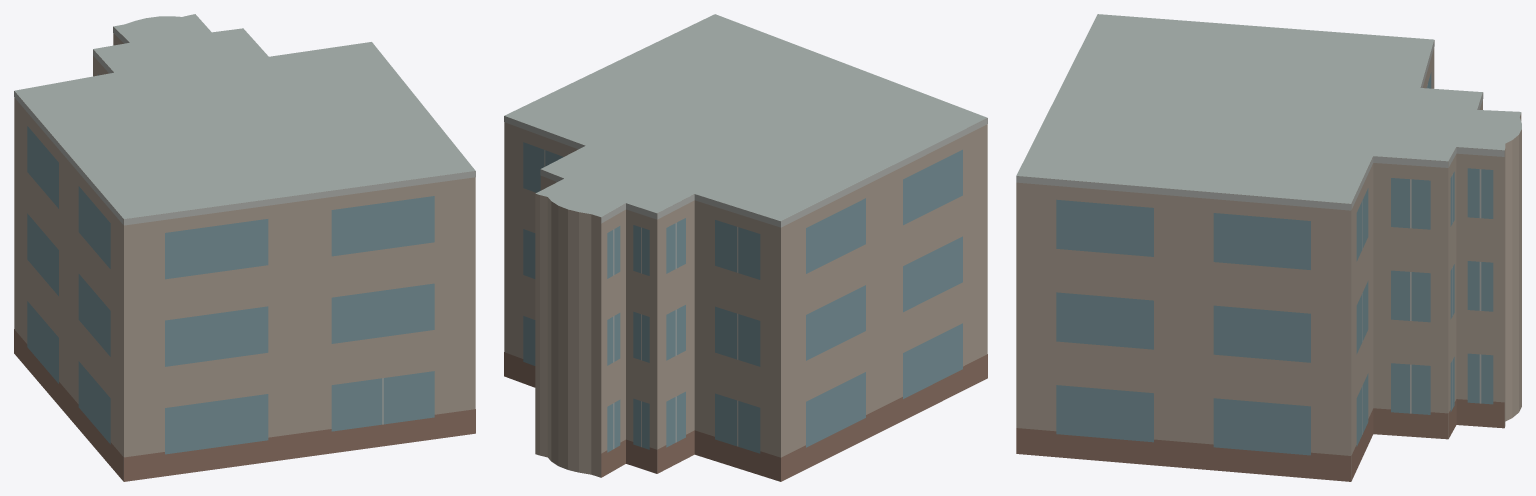
The model's file is survey-upis-32881840.glb.
3 renders of one model, left to right at view 1: azimuth 30°, elevation 25°; view 2: azimuth 150°, elevation 25°; view 3: azimuth 270°, elevation 25°, orthographic. The views are drawn at different scales.
Visible parts, largest first — view 1: survey-upis-32881840.tmp; view 2: survey-upis-32881840.tmp; view 3: survey-upis-32881840.tmp.
Part boxes in pixels (x1,y1,x2,y2): survey-upis-32881840.tmp: (14, 14, 475, 481); survey-upis-32881840.tmp: (504, 14, 987, 481); survey-upis-32881840.tmp: (1016, 14, 1521, 481).
Bounding box in the file's own units: 14.81 × 10.1 × 16.66.
